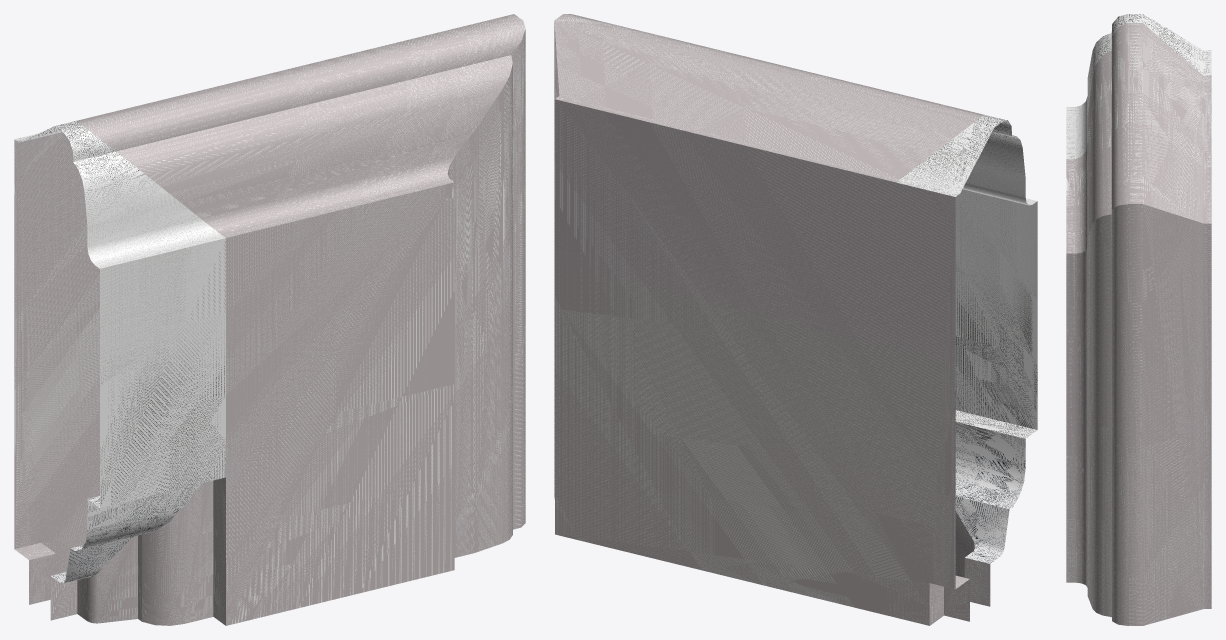
Rendered from original-51.obj.
The picture shows the model from 3 angles, left to right: view 1: azimuth 30°, elevation 25°; view 2: azimuth 150°, elevation 25°; view 3: azimuth 270°, elevation 25°; orthographic projection. The views are drawn at different scales.
Parts seen in each view (by area): view 1: RT_11_TR1/RT_11_TR/mesh40/mesh40-geometry#mesh40-geometry; view 2: RT_11_TR1/RT_11_TR/mesh40/mesh40-geometry#mesh40-geometry; view 3: RT_11_TR1/RT_11_TR/mesh40/mesh40-geometry#mesh40-geometry.
Part boxes in pixels (left/top/right/bottom): RT_11_TR1/RT_11_TR/mesh40/mesh40-geometry#mesh40-geometry: left=14, top=14, right=525, bottom=625; RT_11_TR1/RT_11_TR/mesh40/mesh40-geometry#mesh40-geometry: left=554, top=14, right=1037, bottom=625; RT_11_TR1/RT_11_TR/mesh40/mesh40-geometry#mesh40-geometry: left=1066, top=14, right=1211, bottom=625.
Size of the model in its own units: 0.0879 by 0.0909 by 0.0284.
